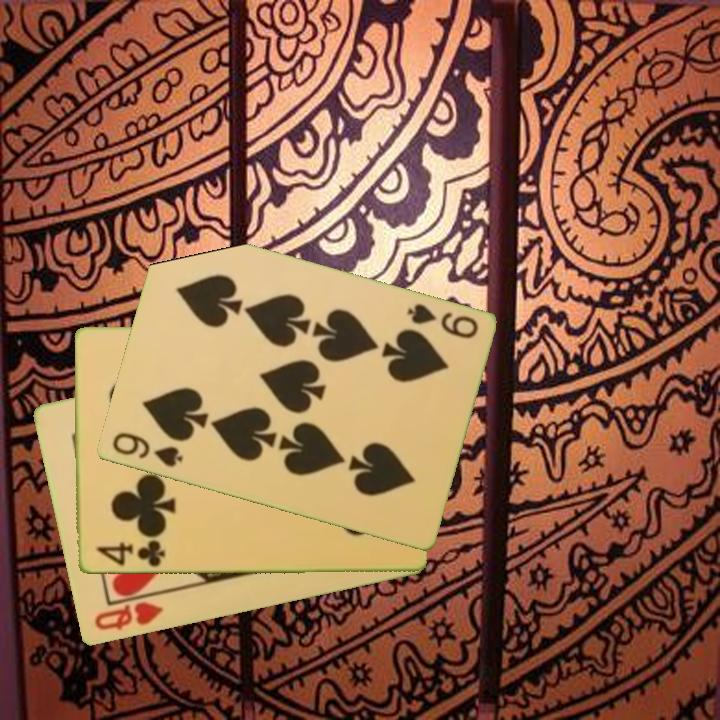4c: (92, 537, 167, 570)
9s: (402, 300, 481, 342), (108, 429, 185, 471)
Qh: (90, 598, 166, 634)
